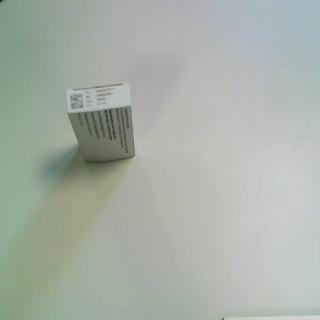oxycontin5mg: (64, 81, 138, 166)
